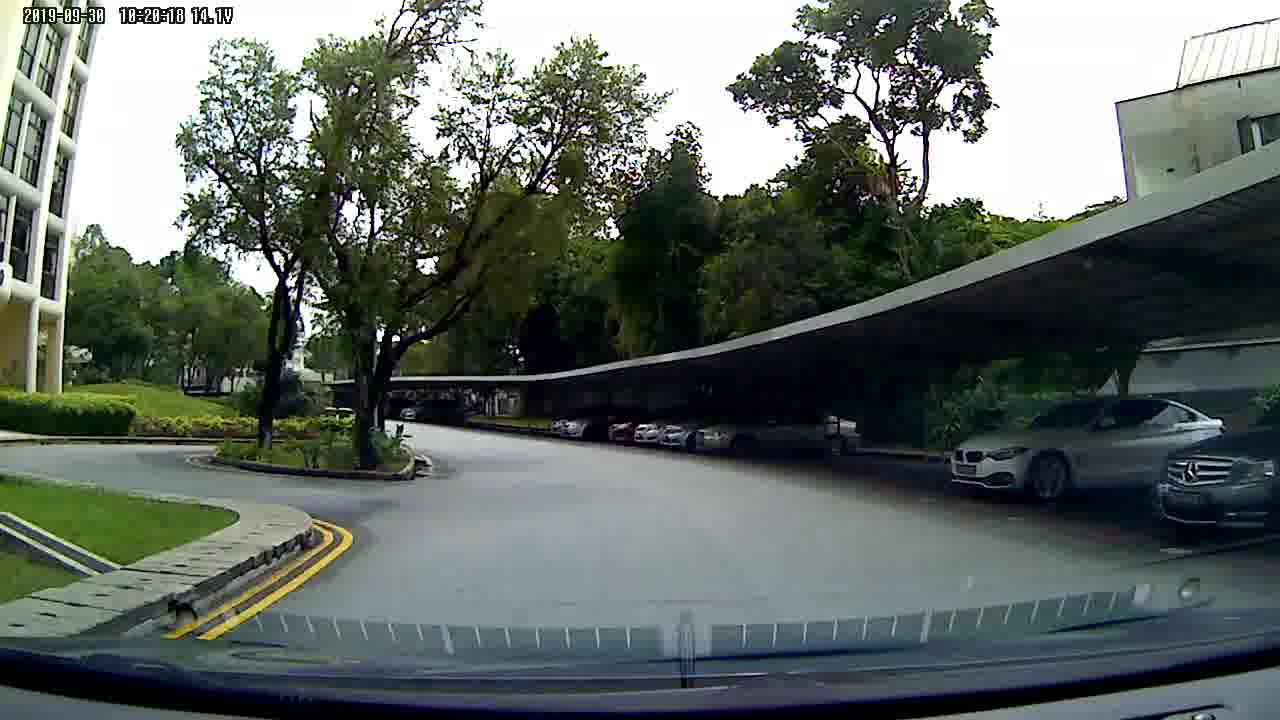car: (942, 386, 1160, 513), (548, 395, 873, 462), (1157, 417, 1280, 527)
